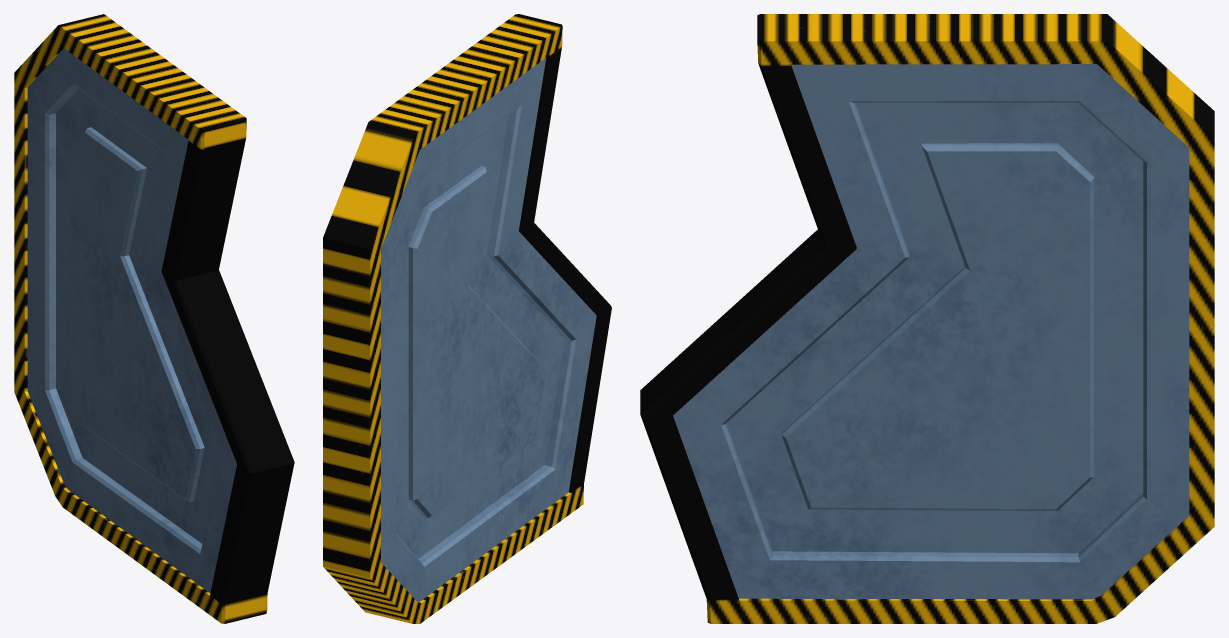
Rendered from Hall - DoorLeft - Texture.gltf.
The picture shows the model from 3 angles, left to right: view 1: azimuth 30°, elevation 25°; view 2: azimuth 150°, elevation 25°; view 3: azimuth 270°, elevation 25°; orthographic projection. The views are drawn at different scales.
Visible parts, largest first — view 1: BlastDoor.002; view 2: BlastDoor.002; view 3: BlastDoor.002.
Boxes of the visible parts, x1,y1,x2,y2 form: BlastDoor.002: (14,14,294,623); BlastDoor.002: (323,14,611,623); BlastDoor.002: (640,14,1214,623).
Size of the model in its own units: 0.2 by 2 by 1.79.
1 material, 1 textured.
